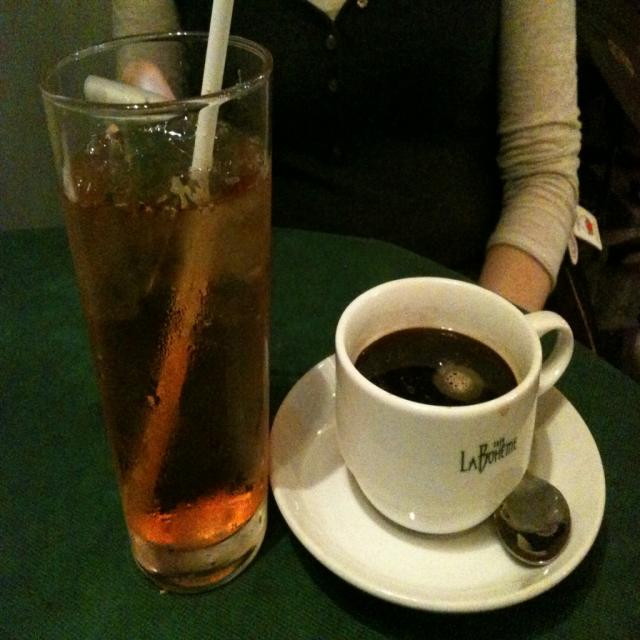Coffee: (349, 327, 516, 411)
Tea: (57, 107, 275, 588), (352, 325, 516, 409)
